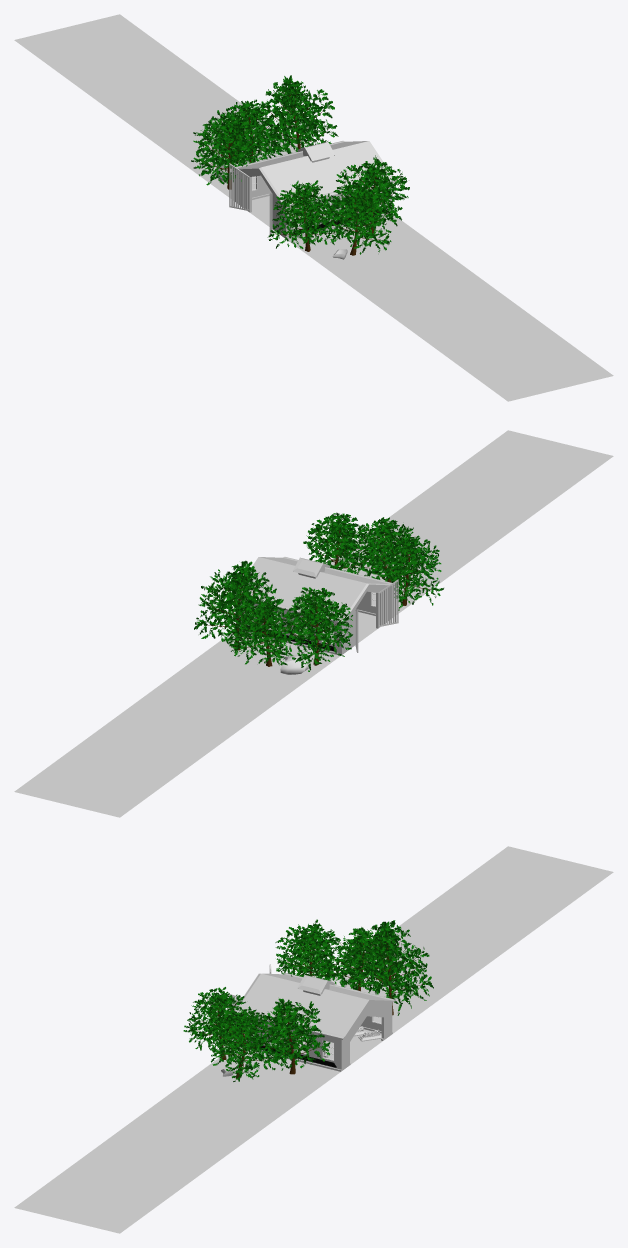
The model's file is Basic_8.2.fbx.
3 renders of one model, top to bottom at view 1: azimuth 30°, elevation 25°; view 2: azimuth 150°, elevation 25°; view 3: azimuth 330°, elevation 25°, orthographic.
Visible parts, largest first — view 1: Basic 800, Basic 807, Basic 811, Basic 813, Basic 810, Basic 814, Basic 809, Basic 812, Basic 806, Basic 803; view 2: Basic 800, Basic 807, Basic 811, Basic 813, Basic 812, Basic 814, Basic 809, Basic 810, Basic 806, Basic 803; view 3: Basic 800, Basic 807, Basic 811, Basic 809, Basic 810, Basic 813, Basic 814, Basic 803, Basic 812, Basic 806.
Part boxes in pixels (x1,y1,x2,y2): Basic 800: (14,14,613,401); Basic 807: (235,141,395,207); Basic 811: (259,75,338,153); Basic 813: (191,110,272,189); Basic 810: (322,182,396,255); Basic 814: (267,180,343,251); Basic 809: (332,155,409,233); Basic 812: (211,99,293,164); Basic 806: (229,141,334,236); Basic 803: (237,170,392,236); Basic 800: (14,430,613,817); Basic 807: (235,557,394,622); Basic 811: (194,560,276,656); Basic 813: (273,587,352,671); Basic 812: (225,596,307,666); Basic 814: (367,534,443,610); Basic 809: (303,512,376,573); Basic 810: (345,517,417,581); Basic 806: (293,557,398,652); Basic 803: (235,586,390,652); Basic 800: (14,846,613,1233); Basic 807: (234,973,395,1039); Basic 811: (350,920,433,1015); Basic 809: (251,998,330,1074); Basic 810: (209,1006,282,1081); Basic 813: (275,919,353,984); Basic 814: (183,987,258,1062); Basic 803: (242,1001,392,1069); Basic 812: (319,927,401,993); Basic 806: (229,964,334,1025).
Size of the model in its own units: 1428 by 826 by 8000.
